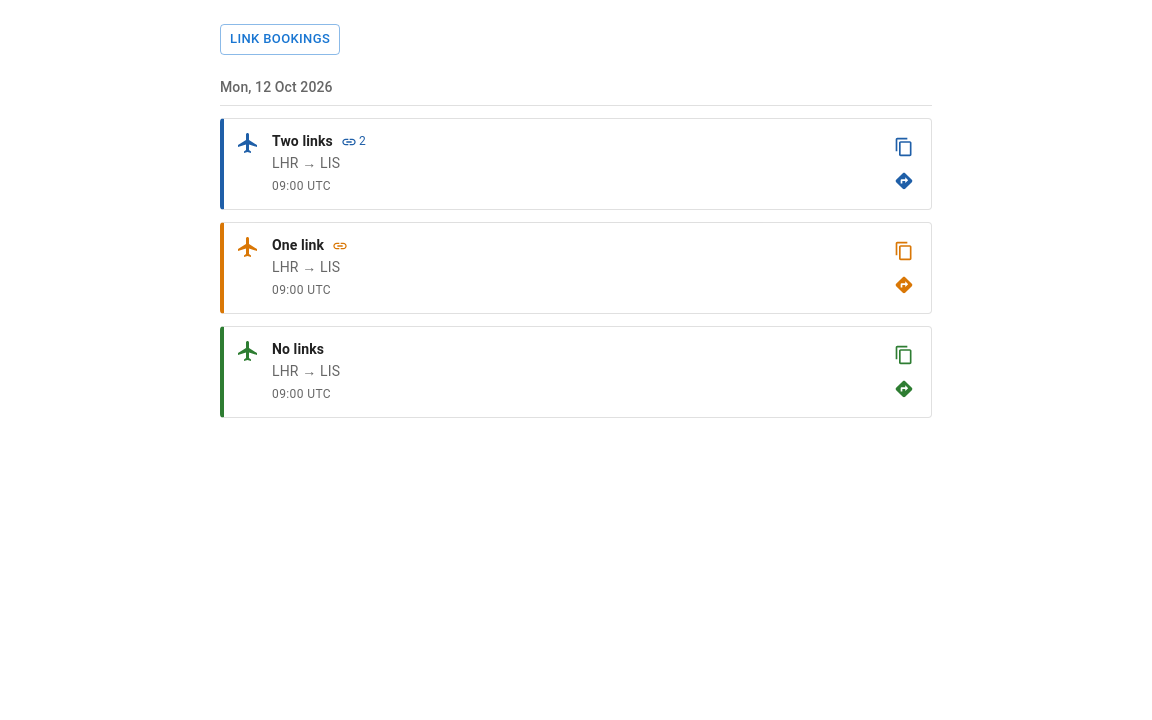
Test: TripTimeline › marks a tile that has links and lists them once expanded
The width and height of the screenshot is (1152, 720).
Expected: the picture named "2 links" reads "2", [359, 134, 366, 148]
Expected: the picture named "1 link" does not show "1", [332, 238, 348, 254]
Click the element with test id "part-card-1": (576, 164) [220, 118, 932, 210]
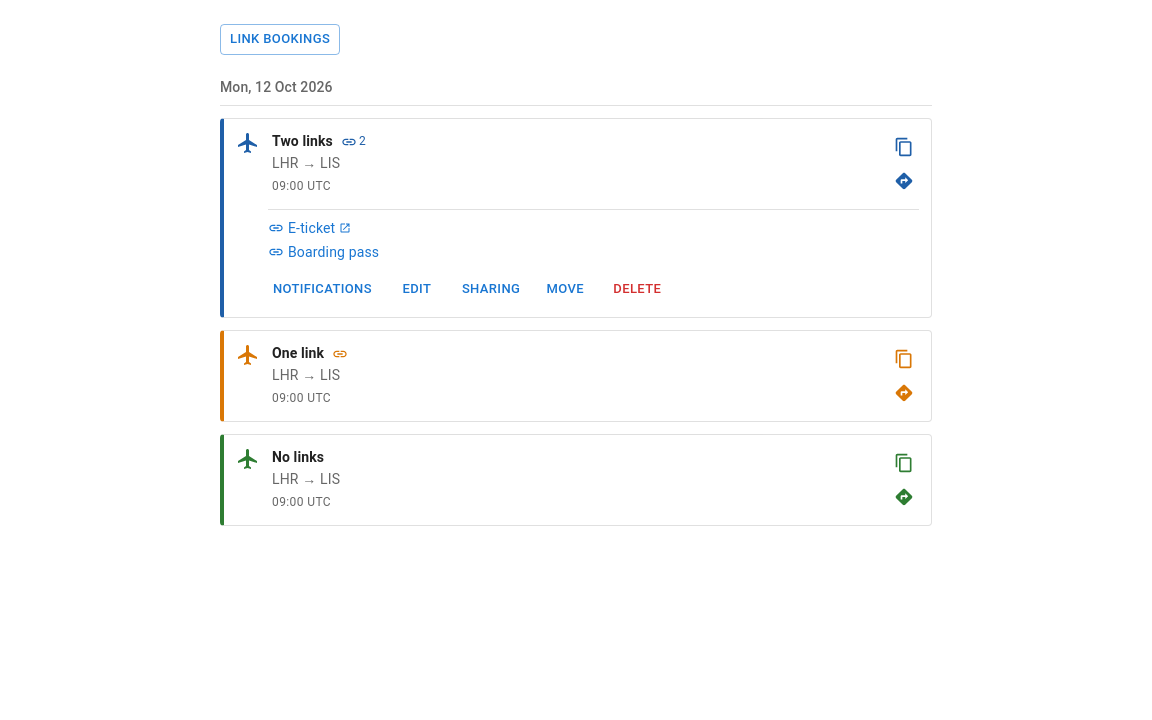
# An image opens in a dialog, and closing it leaves the tile expanded.
Click the button "Boarding pass": (324, 252) [268, 242, 379, 262]
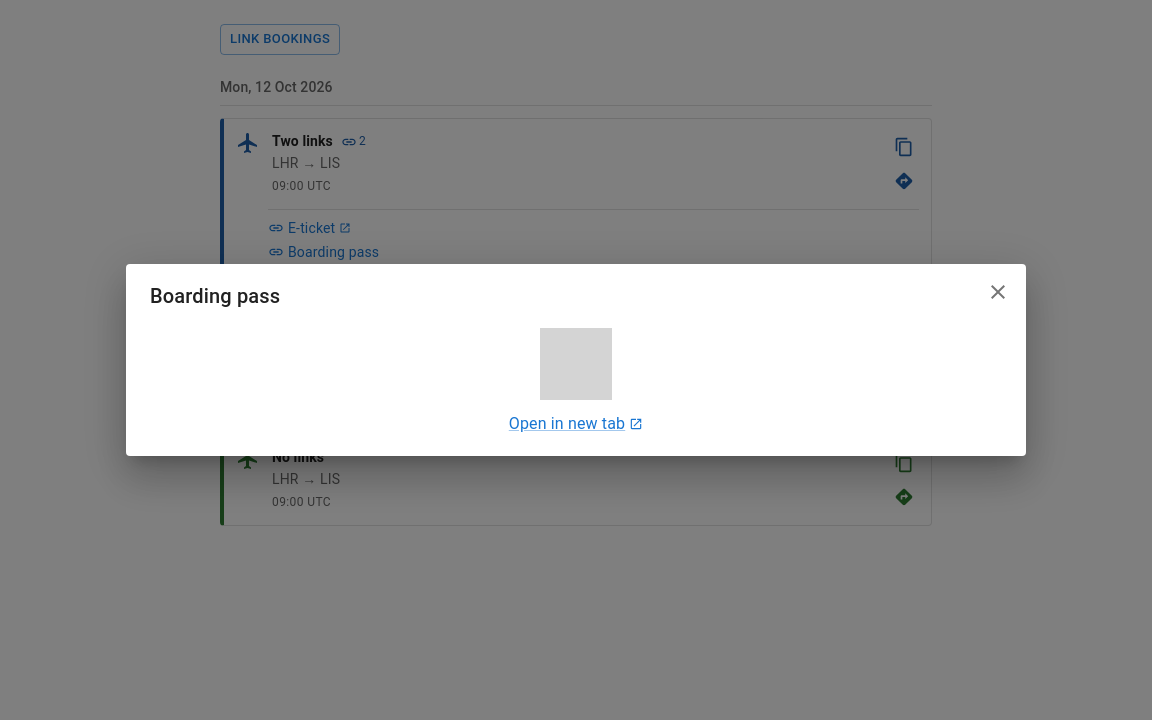
Click the button named "Close": (998, 292) [978, 272, 1018, 312]
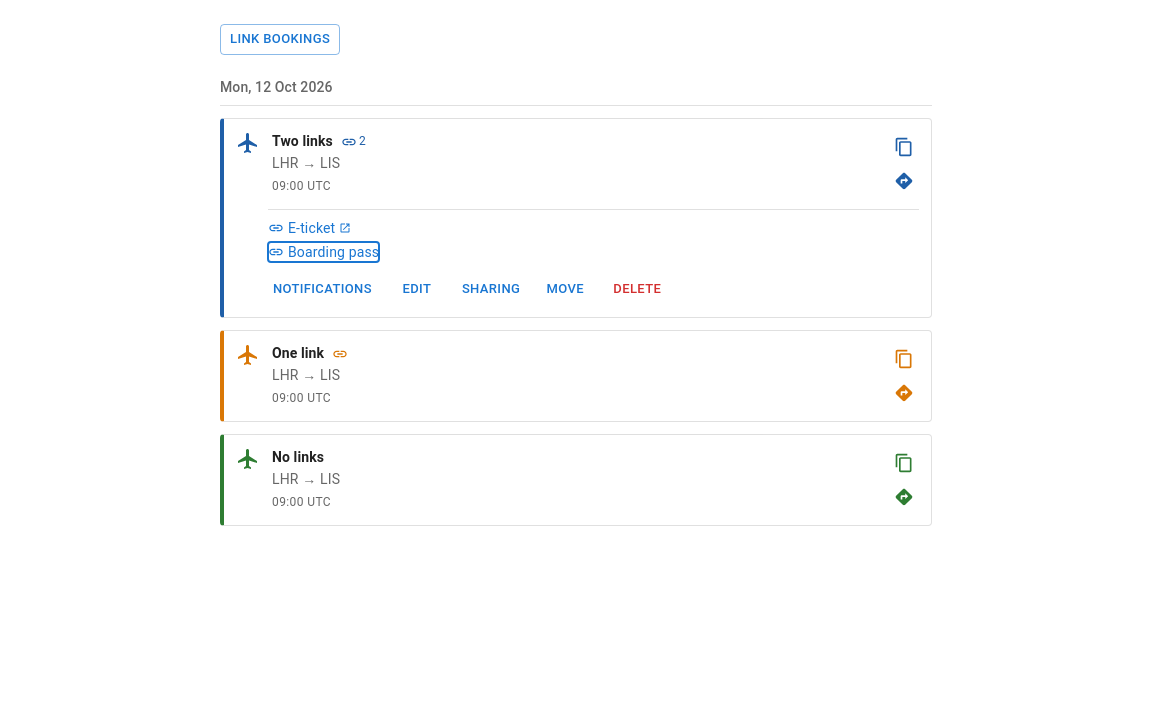
Expected: the link "E-ticket" is shown, [268, 218, 351, 238]
Expected: the dialog is gone
